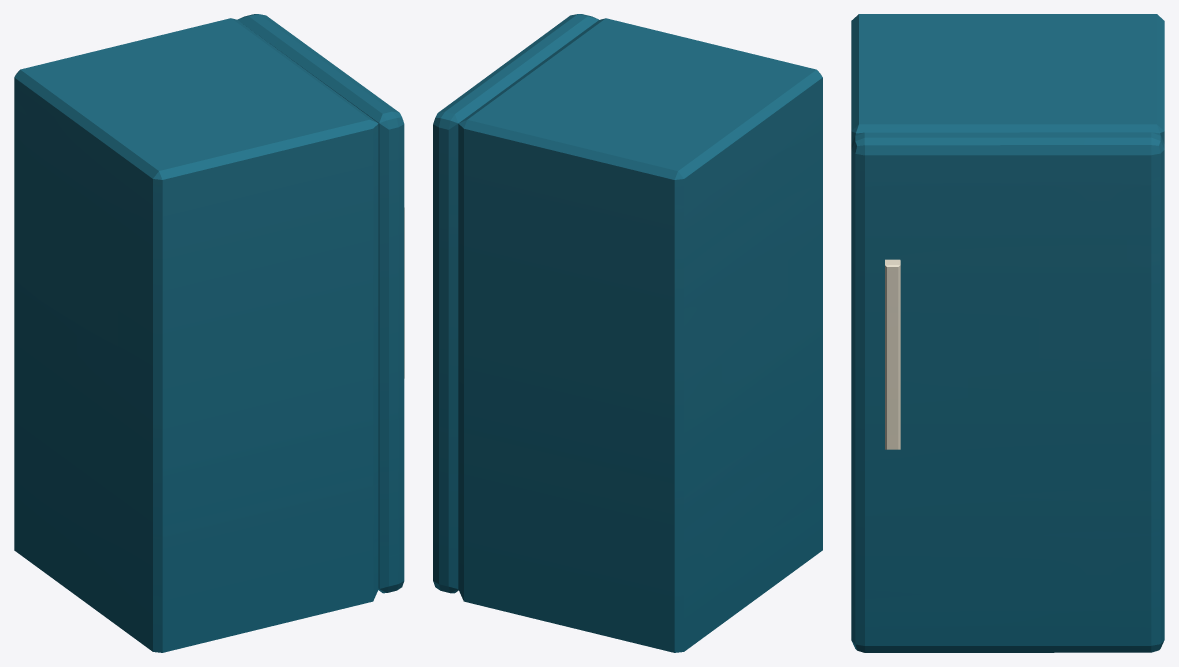
The model's file is Fridge.glb.
The picture shows the model from 3 angles, left to right: view 1: azimuth 30°, elevation 25°; view 2: azimuth 150°, elevation 25°; view 3: azimuth 270°, elevation 25°; orthographic projection. The views are drawn at different scales.
Visible parts, largest first — view 1: Fridge2; view 2: Fridge2; view 3: Fridge2.
Boxes of the visible parts, bbox=[...] form: Fridge2: bbox=[14, 14, 404, 652]; Fridge2: bbox=[433, 14, 822, 652]; Fridge2: bbox=[851, 14, 1164, 652].
Bounding box in the file's own units: 1.05 × 1.81 × 1.
Materials: 1 (1 with a texture image).
